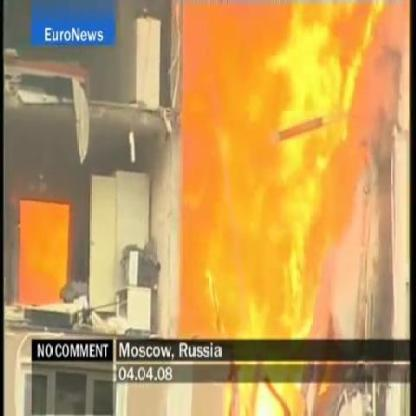fire: (180, 0, 413, 340), (22, 198, 70, 310)
